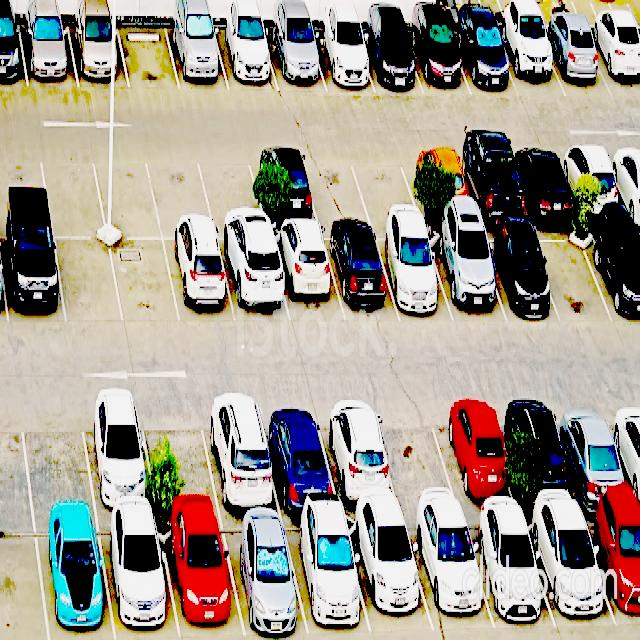empty: (371, 395, 463, 515), (138, 394, 220, 514), (18, 394, 95, 514), (531, 222, 615, 320), (196, 148, 268, 240), (91, 149, 162, 239), (147, 149, 216, 240), (38, 148, 107, 237), (110, 240, 180, 327), (55, 239, 123, 326), (349, 147, 420, 220), (301, 148, 371, 222), (117, 24, 180, 90)
occupied: (524, 511, 618, 636), (282, 515, 372, 640), (219, 516, 309, 637), (345, 515, 434, 634), (464, 515, 556, 630), (157, 516, 244, 637), (405, 515, 495, 631), (434, 394, 519, 514), (97, 515, 179, 638), (315, 397, 401, 514), (199, 392, 281, 514), (34, 515, 114, 640), (553, 393, 637, 510), (257, 396, 339, 512), (78, 393, 157, 513), (503, 393, 582, 513), (476, 228, 558, 322), (425, 229, 507, 323), (374, 228, 453, 323), (270, 227, 344, 325), (322, 227, 399, 321), (582, 508, 640, 630), (0, 233, 66, 326), (164, 241, 236, 325), (218, 242, 290, 325), (584, 222, 640, 326), (453, 147, 528, 222), (247, 148, 319, 224), (402, 148, 474, 220), (538, 28, 612, 97), (495, 28, 566, 99), (509, 144, 578, 217), (558, 143, 625, 215), (452, 25, 519, 96), (406, 25, 471, 96), (357, 28, 423, 94), (213, 26, 279, 91), (166, 25, 229, 91), (309, 30, 374, 92), (67, 25, 129, 88), (19, 25, 79, 88), (586, 29, 640, 98), (265, 30, 326, 91)
